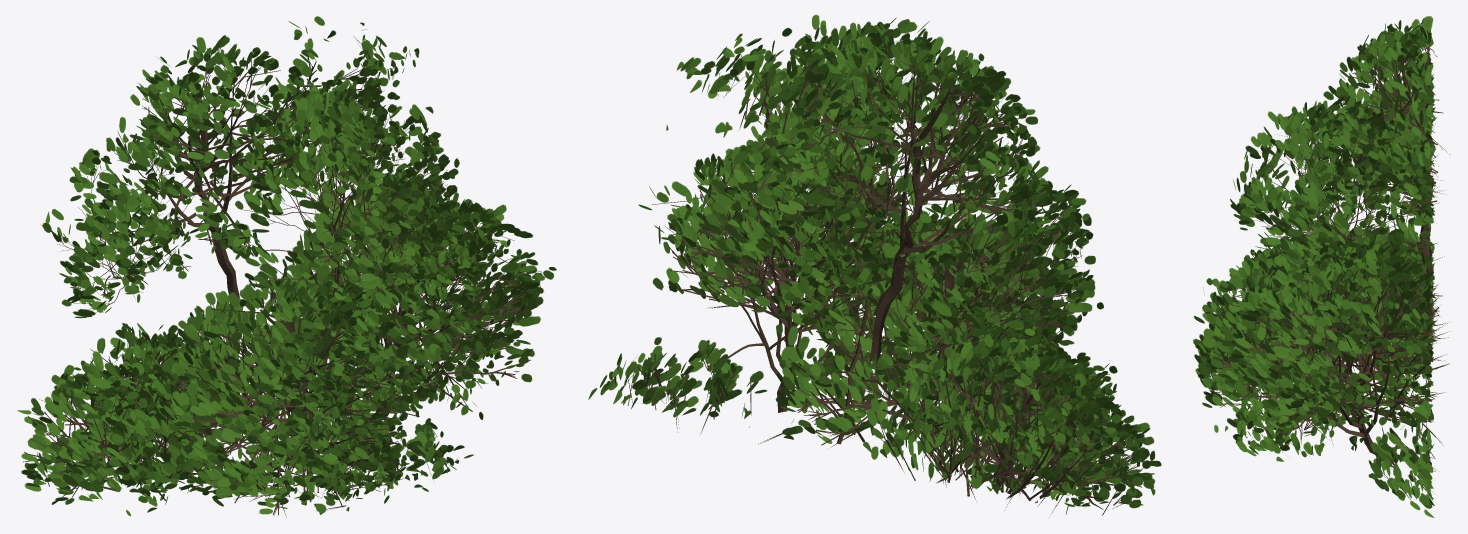
3 renders of one model, left to right at view 1: azimuth 30°, elevation 25°; view 2: azimuth 150°, elevation 25°; view 3: azimuth 270°, elevation 25°, orthographic. The views are drawn at different scales.
Parts seen in each view (by area): view 1: oak 01.001_trunk_Mat.001_0.332; view 2: oak 01.001_trunk_Mat.001_0.332; view 3: oak 01.001_trunk_Mat.001_0.332.
Boxes of the visible parts, x1,y1,x2,y2 form: oak 01.001_trunk_Mat.001_0.332: (17,16,556,517); oak 01.001_trunk_Mat.001_0.332: (588,14,1161,515); oak 01.001_trunk_Mat.001_0.332: (1193,16,1449,517).
Size of the model in its own units: 4.07 by 3.29 by 2.05.
2 materials, 1 textured.
